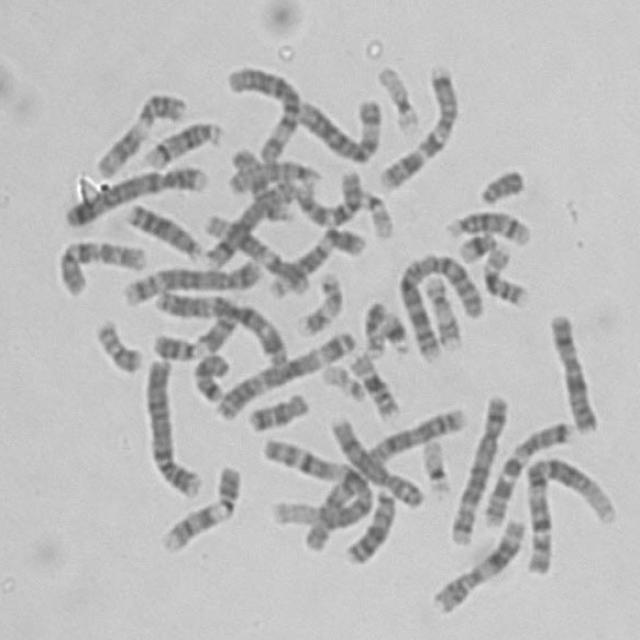A1: (255, 429, 375, 553), (516, 448, 620, 576)
A2: (282, 398, 469, 544), (389, 244, 486, 359)
A3: (209, 321, 358, 422), (148, 282, 292, 369)
B4: (58, 156, 210, 228), (138, 349, 204, 500)
B5: (444, 385, 512, 547), (115, 252, 265, 308)
C10: (50, 230, 148, 298), (288, 162, 364, 228)
C11: (424, 510, 529, 616), (88, 84, 188, 180)
C12: (198, 205, 312, 297), (262, 218, 367, 298)
C6: (220, 56, 302, 164), (290, 88, 385, 164)
C7: (370, 57, 460, 191), (476, 412, 577, 530)
C8: (322, 408, 428, 510), (198, 172, 298, 270)
C9: (153, 457, 243, 555), (148, 286, 248, 362)
D13: (120, 193, 204, 260), (339, 480, 397, 567)
D14: (138, 112, 225, 170), (439, 202, 533, 246)
D15: (223, 140, 296, 223), (221, 151, 323, 194)
E16: (340, 342, 401, 421), (476, 237, 531, 309)
E17: (292, 265, 344, 337), (419, 269, 463, 349)
E18: (241, 384, 312, 433), (185, 345, 232, 403)
F19: (370, 56, 422, 134), (415, 430, 454, 495)
F20: (87, 311, 145, 375), (356, 294, 388, 359)
G21: (451, 221, 499, 263), (376, 303, 411, 355)
G22: (353, 182, 396, 240), (314, 356, 368, 402)
X: (542, 304, 601, 435)
Y: (472, 159, 526, 206)
